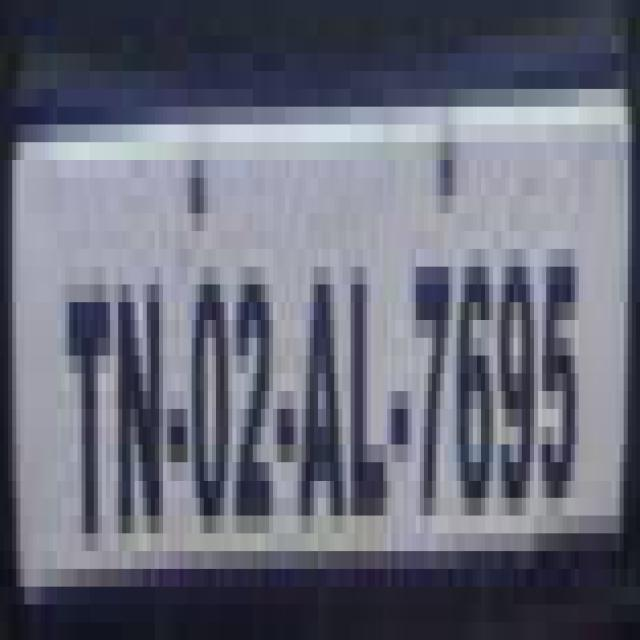plate: (4, 36, 607, 622)
